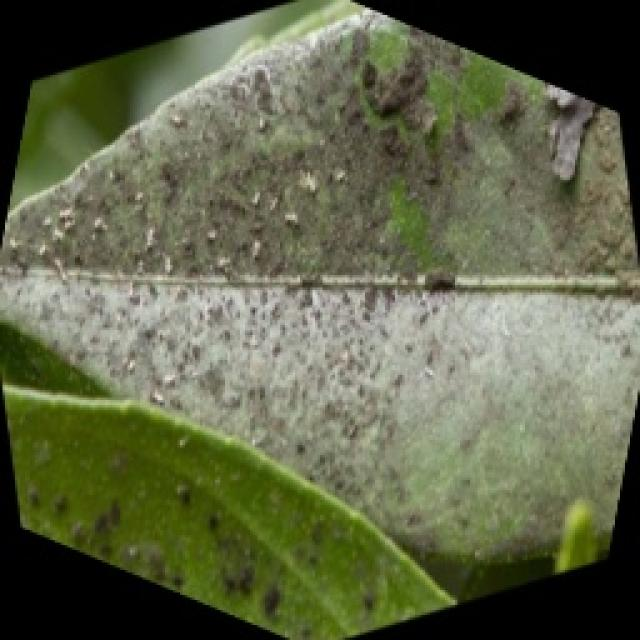Sooty Mold: (0, 8, 638, 638)
